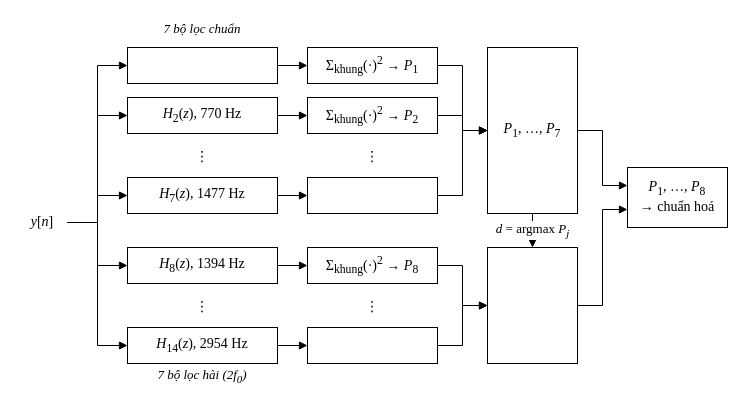
Some shapes in this 745 by 404 pixel diagram are drawn without their labels. The box of each missing label's shape, as (x1, y1, x2, y2) in pixels:
Chọn P 8 = P 7+ d: (486, 246, 578, 364)
H 1 ( z ), 697 Hz: (126, 46, 278, 84)
Σ khung (·) 2 → P 14: (306, 326, 438, 364)
Σ khung (·) 2 → P 7: (306, 176, 438, 214)
